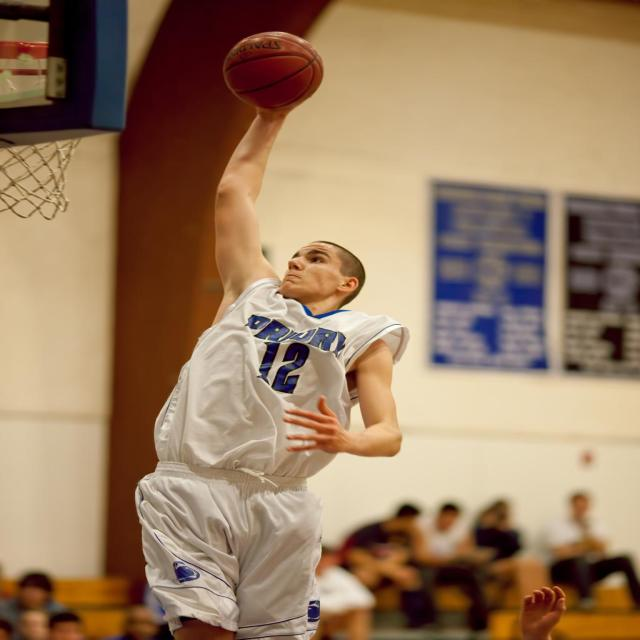Face: (273, 242, 379, 308)
